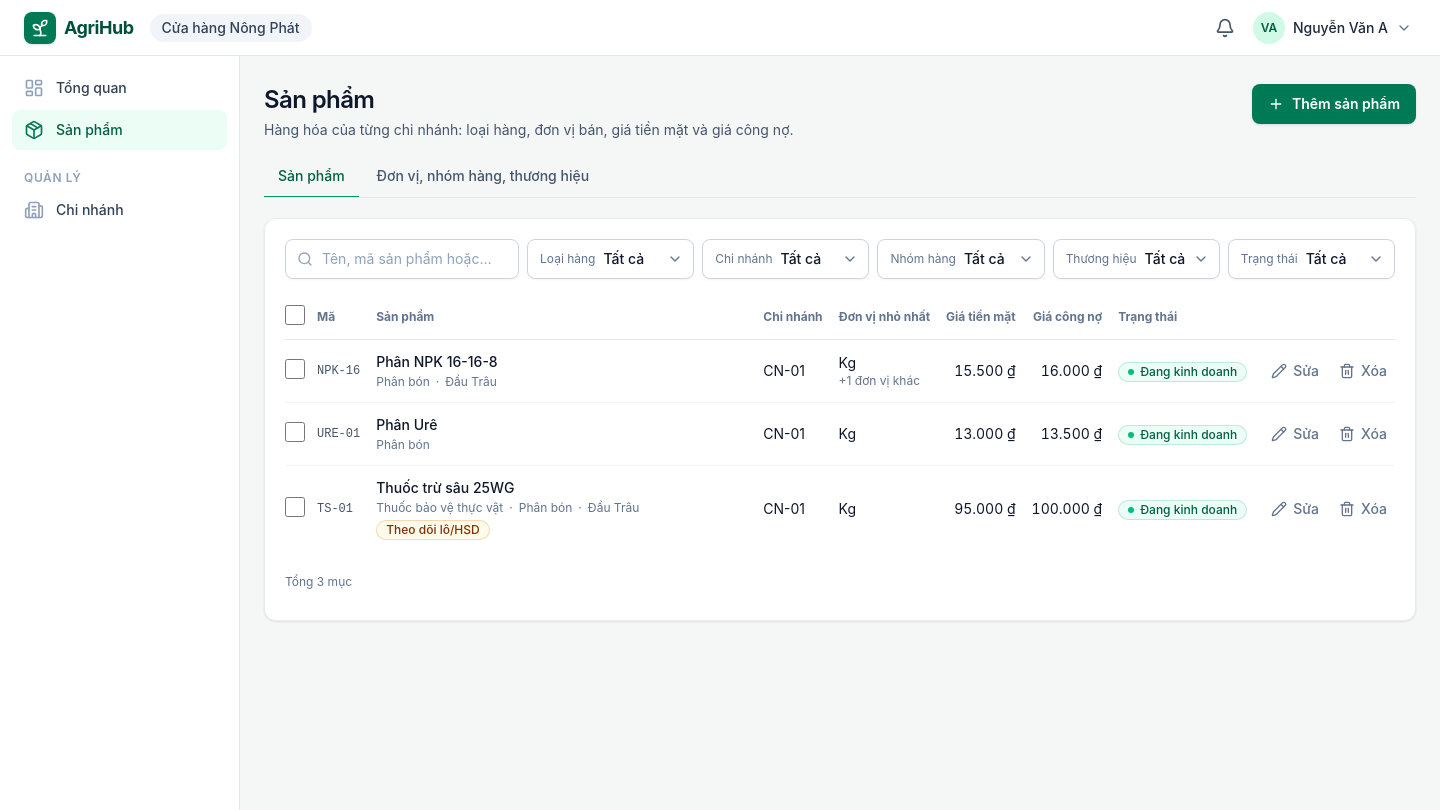
Test: danh sách sản phẩm › xóa sản phẩm: hỏi xác nhận, gọi API rồi lấy lại danh sách
The width and height of the screenshot is (1440, 810).
Click the button with aria-label "Xóa Phân NPK 16-16-8" at (1363, 371), box [1331, 353, 1395, 389]
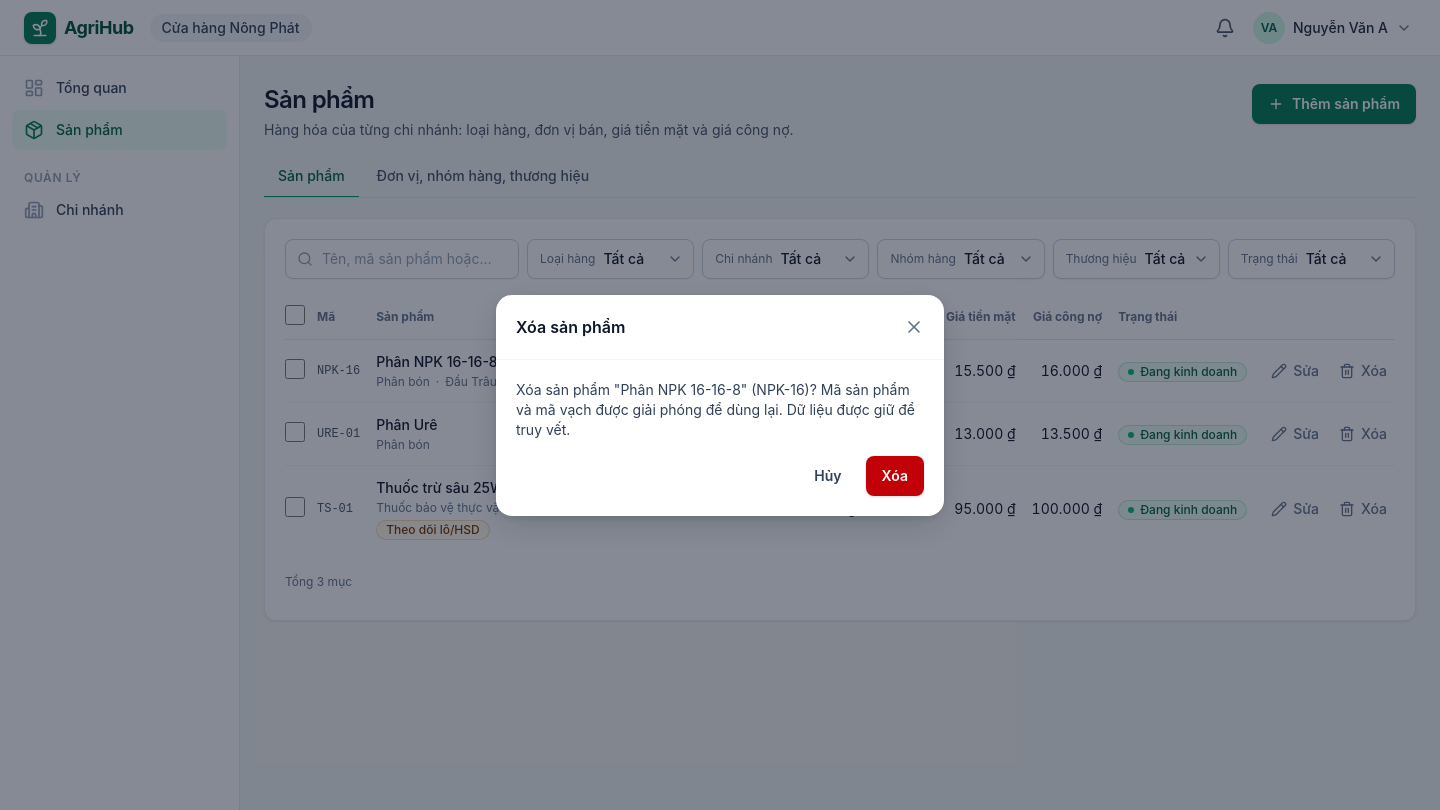
Expected: the text "NPK-16" is shown, [516, 380, 915, 438]
Click the button "Xóa" at (895, 476), box [866, 456, 924, 496]
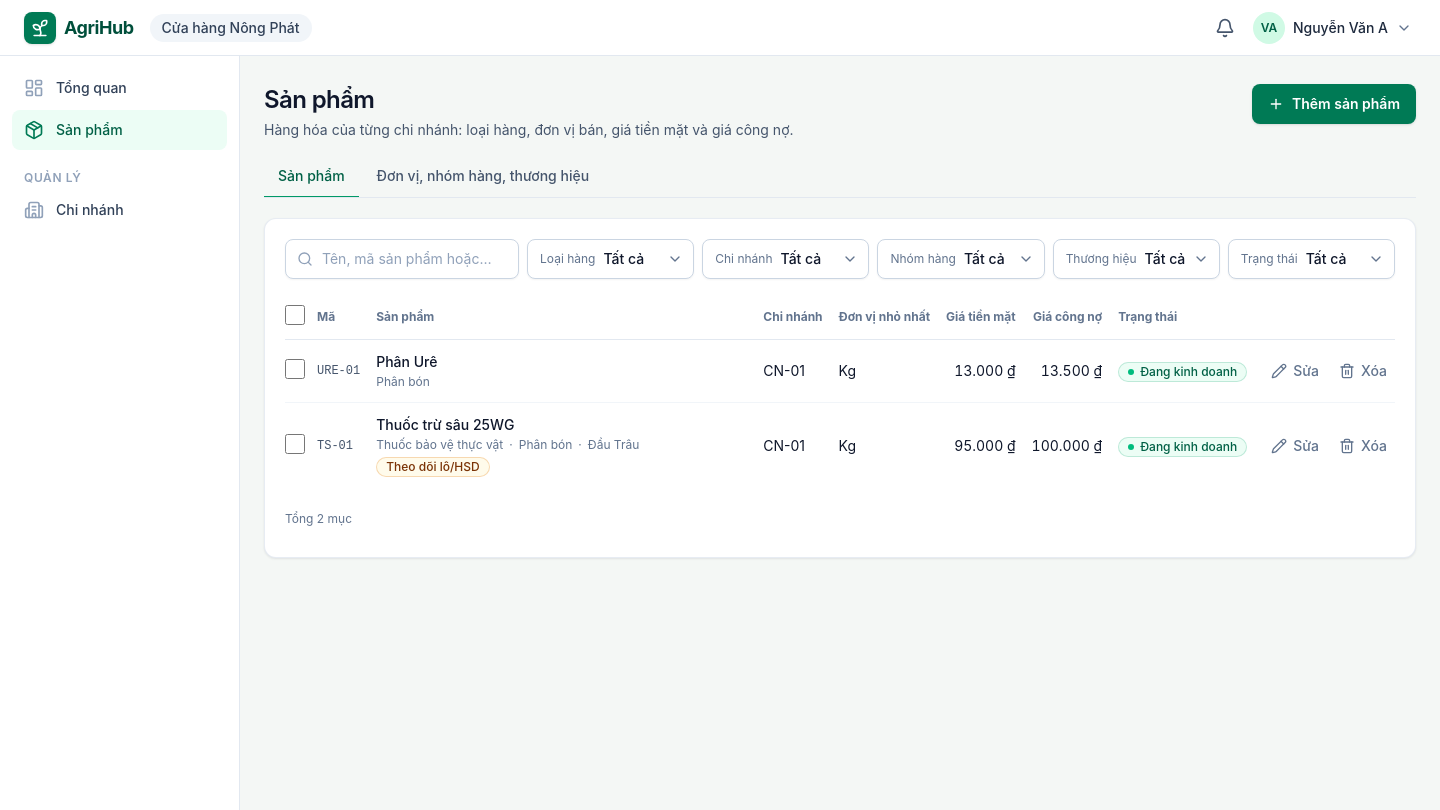
Expected: the link "Phân NPK 16-16-8" is gone
